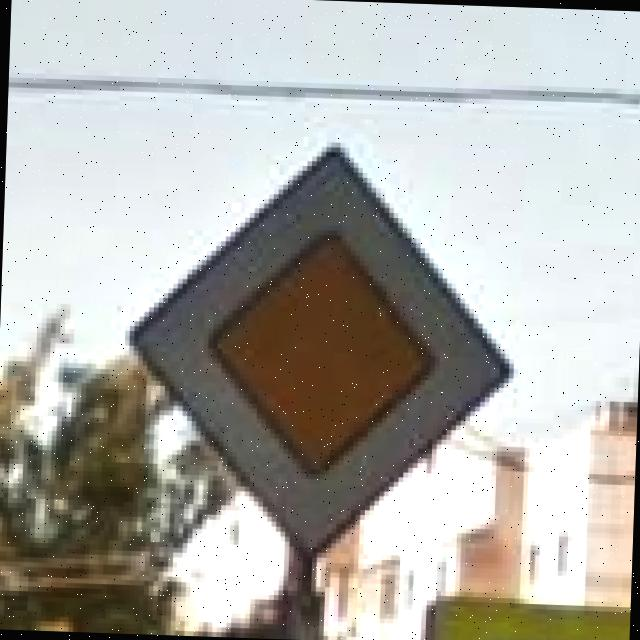Droga z pierwszenstwem: (122, 131, 521, 564)
